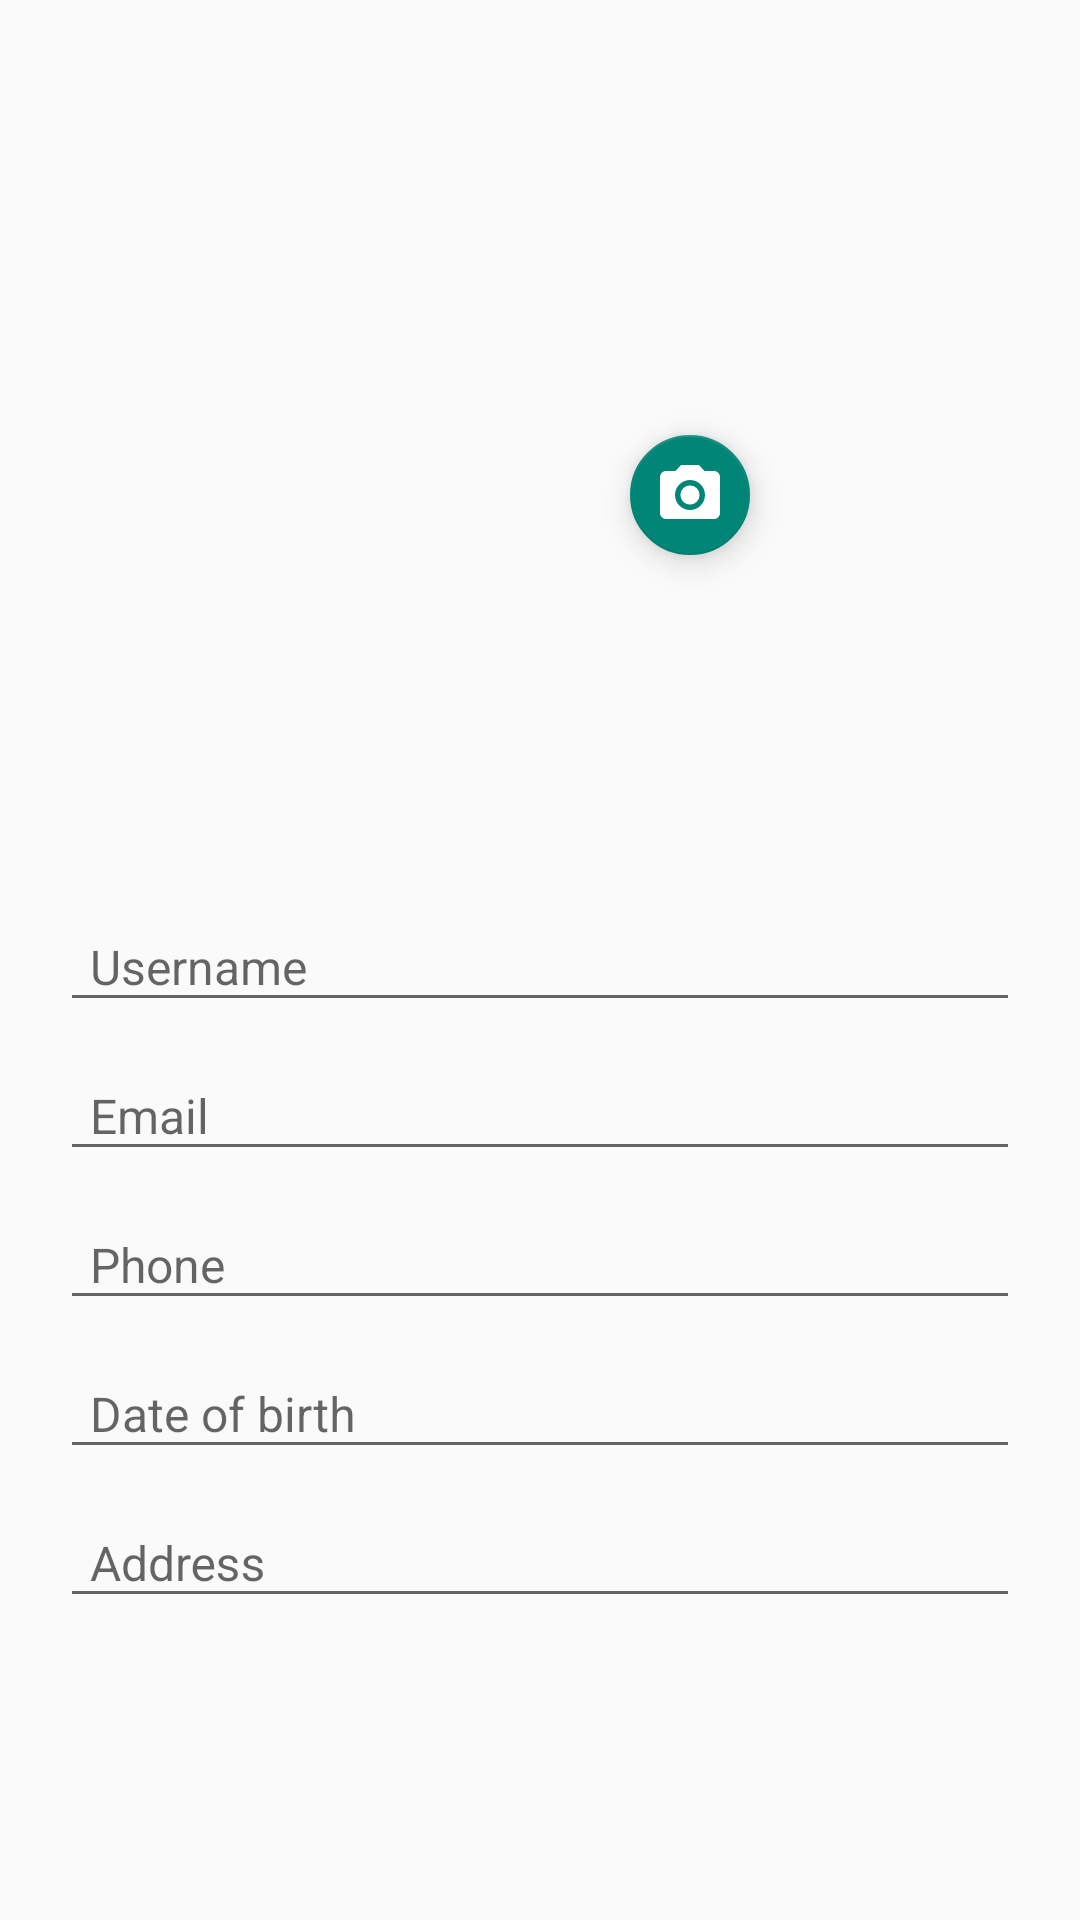

Locate icon controls on the screen. Image size 1080×1920, boxes as (x1, y1, x2, y2).
camera: (630, 435, 750, 555)
